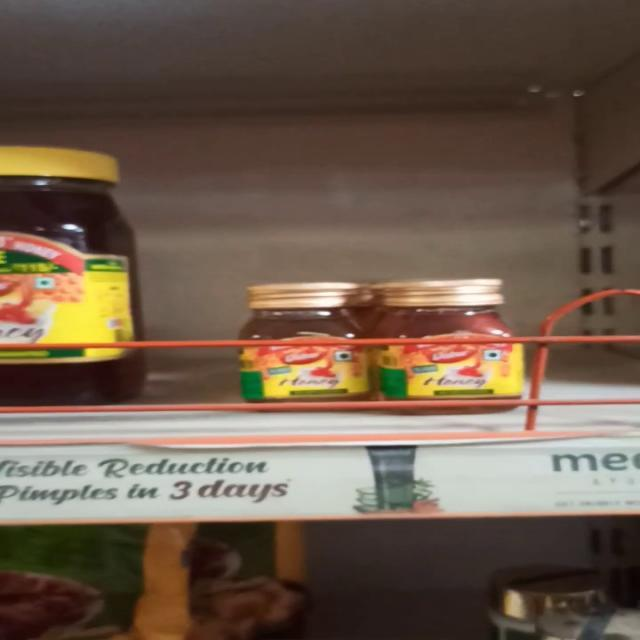Dabur Honey: (384, 272, 540, 397), (243, 284, 371, 400)
